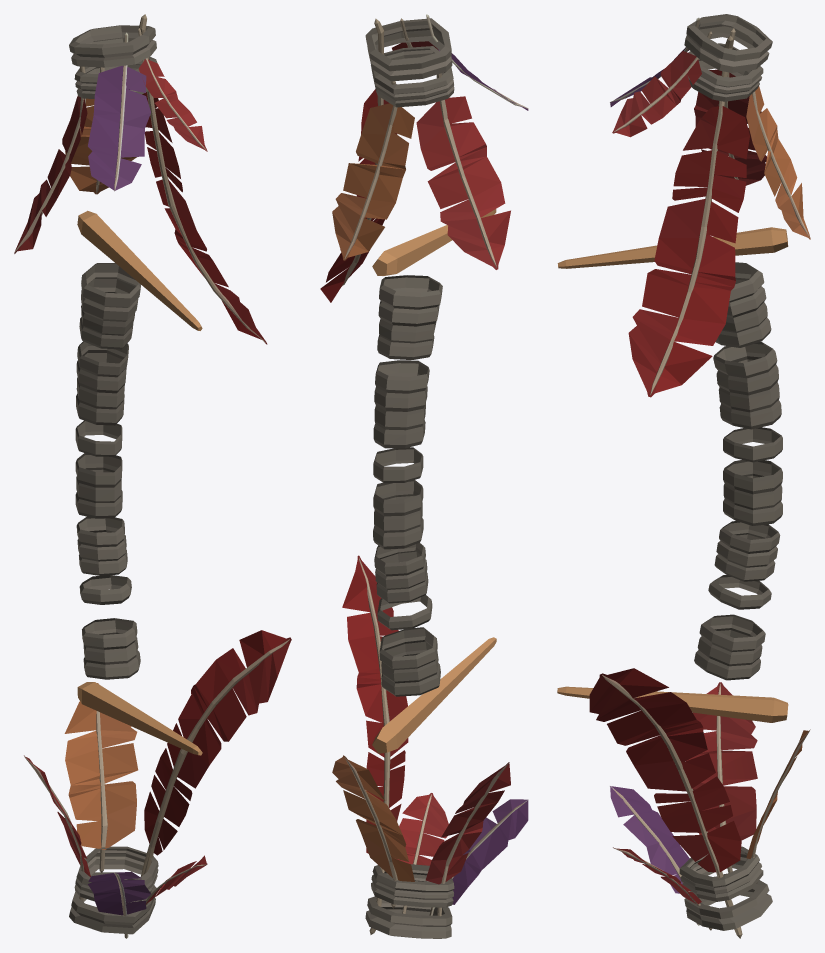
Rendered from mediumBowAztecHandle.glb.
3 views of the same model, side by side, from view 1: azimuth 30°, elevation 25°; view 2: azimuth 150°, elevation 25°; view 3: azimuth 270°, elevation 25° (orthographic).
Parts seen in each view (by area): view 1: mediumBowAztecHandle; view 2: mediumBowAztecHandle; view 3: mediumBowAztecHandle.
Boxes of the visible parts, box(x1,y1,x2,y2) form: mediumBowAztecHandle: box(14, 14, 291, 938); mediumBowAztecHandle: box(320, 14, 528, 938); mediumBowAztecHandle: box(557, 14, 810, 938).
Bounding box in the file's own units: 0.1746 × 0.7279 × 0.1839.
